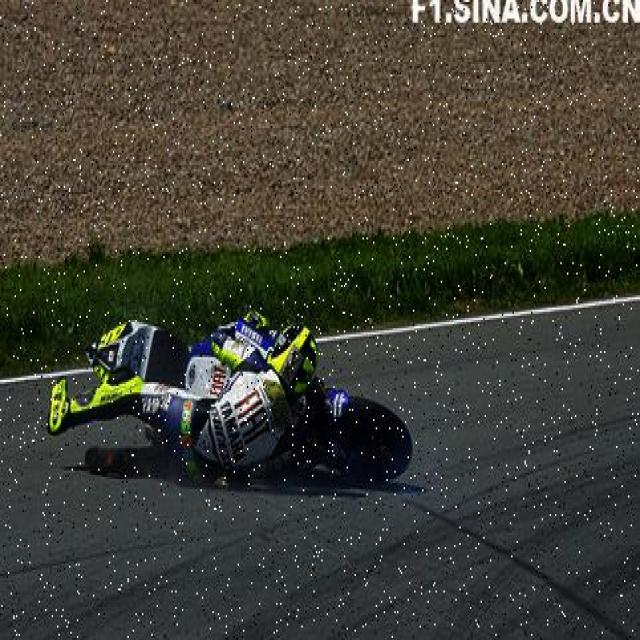fall: (42, 330, 314, 474)
